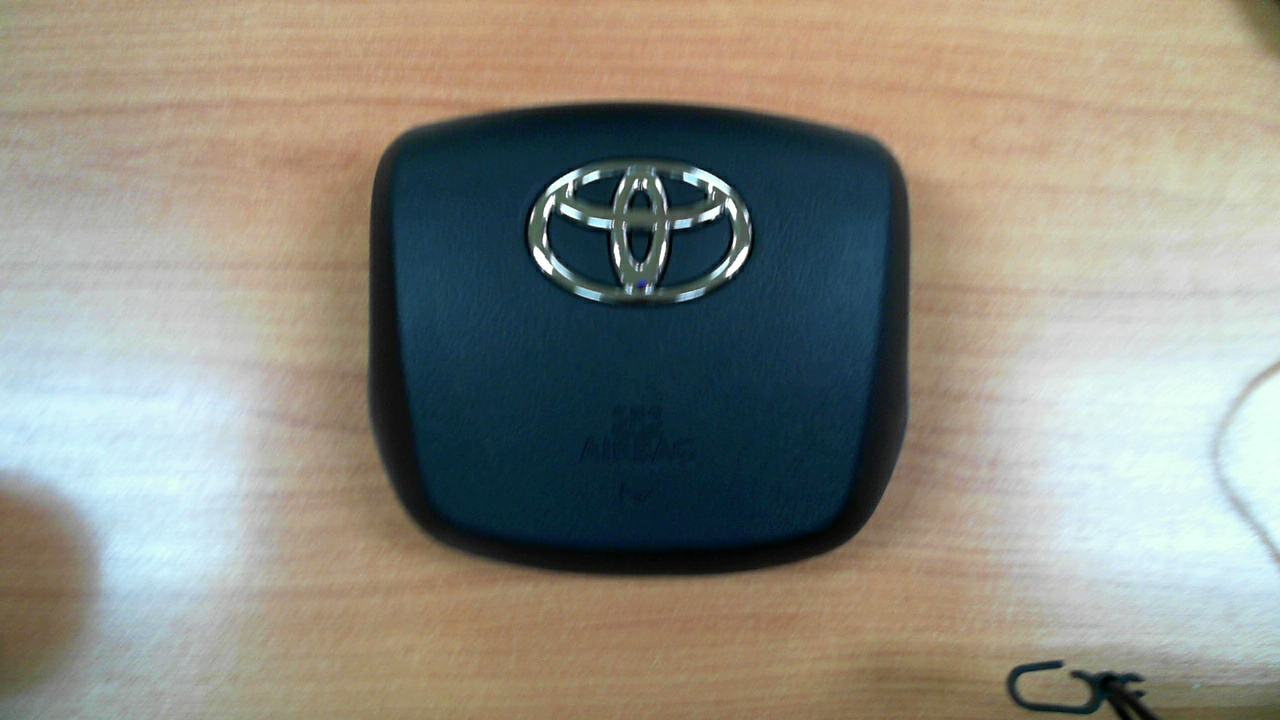Airbag: (330, 94, 948, 610)
